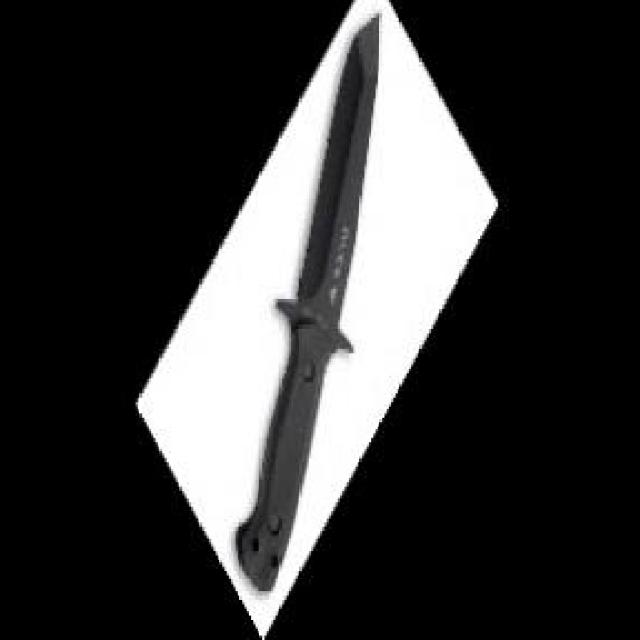knife: (236, 0, 386, 600)
